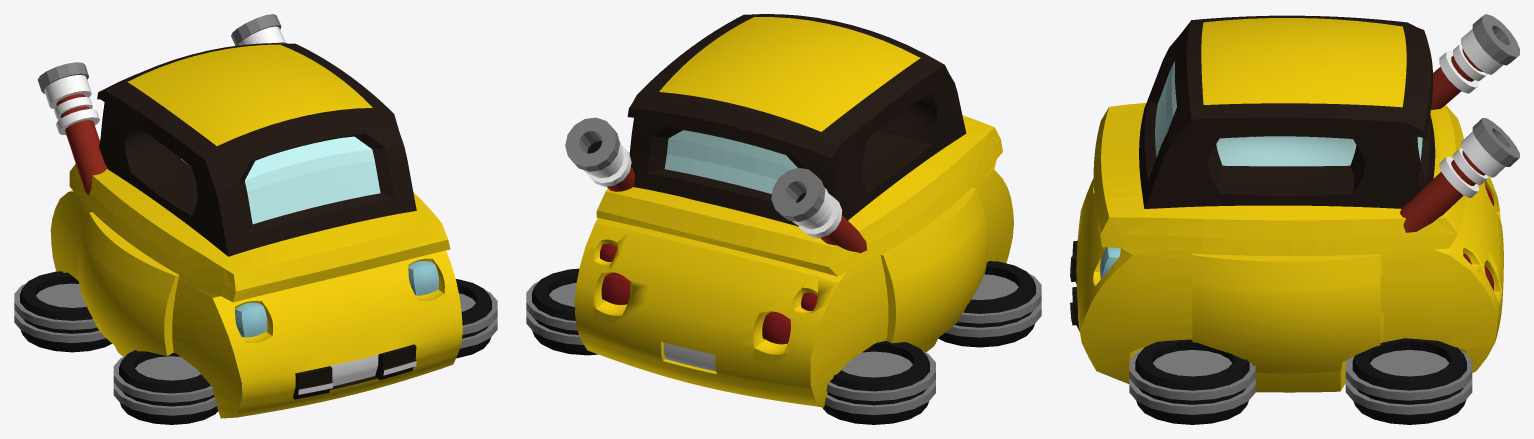
Rendered from Buggy_Nave_Taxi.fbx.
The picture shows the model from 3 angles, left to right: view 1: azimuth 30°, elevation 25°; view 2: azimuth 150°, elevation 25°; view 3: azimuth 270°, elevation 25°; orthographic projection. The views are drawn at different scales.
Visible parts, largest first — view 1: Box002, Cylinder009, Cylinder011, Cylinder006, Cylinder008, Cylinder007, Box006, Box013; view 2: Box002, Cylinder011, Cylinder009, Cylinder006, Cylinder010, Cylinder007, Box021, Box020; view 3: Box002, Cylinder010, Cylinder008, Cylinder007, Cylinder006.
Part boxes in pixels (bbox=[...]): Box002: bbox=[50, 43, 462, 418]; Cylinder009: bbox=[113, 350, 218, 424]; Cylinder011: bbox=[14, 271, 111, 352]; Cylinder006: bbox=[38, 62, 106, 195]; Cylinder008: bbox=[456, 279, 497, 358]; Cylinder007: bbox=[231, 14, 285, 45]; Box006: bbox=[235, 302, 267, 337]; Box013: bbox=[408, 261, 438, 295]; Box002: bbox=[574, 14, 1013, 407]; Cylinder011: bbox=[822, 341, 935, 424]; Cylinder009: bbox=[938, 261, 1041, 347]; Cylinder006: bbox=[771, 168, 866, 253]; Cylinder010: bbox=[526, 268, 598, 355]; Cylinder007: bbox=[565, 117, 634, 191]; Box021: bbox=[601, 272, 630, 304]; Box020: bbox=[762, 312, 790, 344]; Box002: bbox=[1070, 15, 1503, 392]; Cylinder010: bbox=[1345, 338, 1472, 424]; Cylinder008: bbox=[1129, 339, 1255, 424]; Cylinder007: bbox=[1400, 118, 1519, 232]; Cylinder006: bbox=[1431, 14, 1519, 109].
Size of the model in its own units: 71.75 by 48.02 by 69.21.
